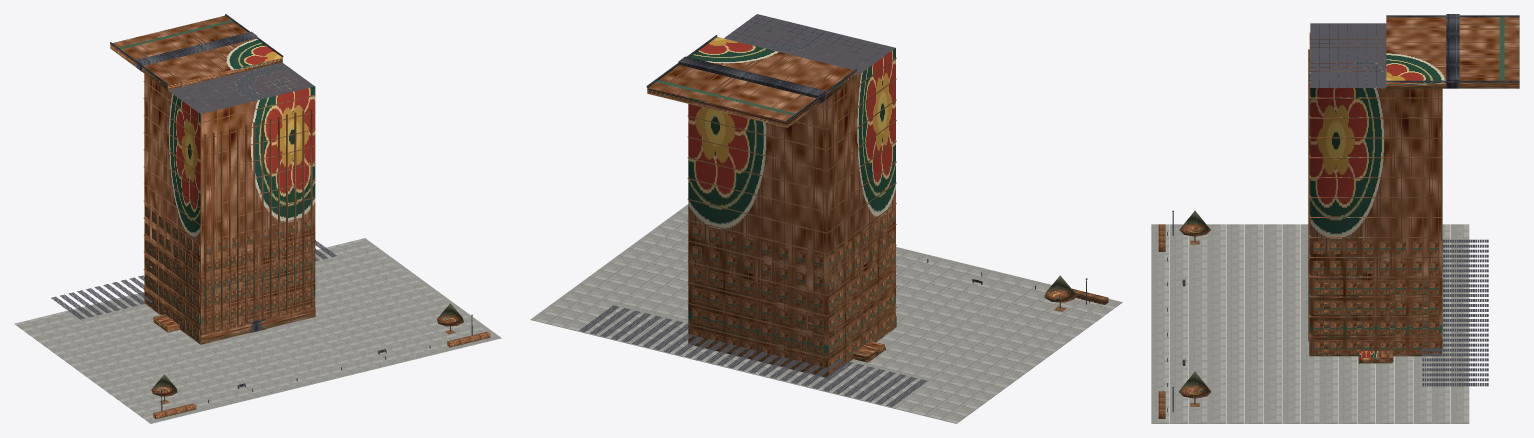
3 renders of one model, left to right at view 1: azimuth 30°, elevation 25°; view 2: azimuth 150°, elevation 25°; view 3: azimuth 270°, elevation 25°, orthographic. The views are drawn at different scales.
Visible parts, largest first — view 1: 11140_02_04520_041_02__mass_body_facade, 11140_02_04520_041_01__plinth_ground_base, 11140_02_04520_041_03__roof_deck_structure, 11140_02_04520_041_05__window_sash_glass, 11140_02_04520_041_06__landscape_greenery, 11140_02_04520_041_03__roof_metal_ornament; view 2: 11140_02_04520_041_02__mass_body_facade, 11140_02_04520_041_01__plinth_ground_base, 11140_02_04520_041_03__roof_deck_structure, 11140_02_04520_041_03__roof_metal_ornament, 11140_02_04520_041_06__landscape_greenery; view 3: 11140_02_04520_041_02__mass_body_facade, 11140_02_04520_041_01__plinth_ground_base, 11140_02_04520_041_03__roof_deck_structure, 11140_02_04520_041_03__roof_metal_ornament, 11140_02_04520_041_06__landscape_greenery.
Boxes of the visible parts, x1,y1,x2,y2 form: 11140_02_04520_041_02__mass_body_facade: (110, 15, 315, 344); 11140_02_04520_041_01__plinth_ground_base: (14, 238, 501, 423); 11140_02_04520_041_03__roof_deck_structure: (51, 62, 336, 319); 11140_02_04520_041_05__window_sash_glass: (170, 235, 313, 337); 11140_02_04520_041_06__landscape_greenery: (151, 303, 490, 419); 11140_02_04520_041_03__roof_metal_ornament: (110, 14, 283, 85); 11140_02_04520_041_02__mass_body_facade: (647, 16, 896, 377); 11140_02_04520_041_01__plinth_ground_base: (530, 204, 1122, 423); 11140_02_04520_041_03__roof_deck_structure: (579, 14, 927, 406); 11140_02_04520_041_03__roof_metal_ornament: (646, 35, 857, 121); 11140_02_04520_041_06__landscape_greenery: (1044, 275, 1108, 311); 11140_02_04520_041_02__mass_body_facade: (1308, 17, 1519, 363); 11140_02_04520_041_01__plinth_ground_base: (1151, 224, 1469, 423); 11140_02_04520_041_03__roof_deck_structure: (1310, 23, 1488, 386); 11140_02_04520_041_03__roof_metal_ornament: (1386, 14, 1519, 88); 11140_02_04520_041_06__landscape_greenery: (1158, 210, 1211, 418).
Size of the model in its own units: 85.95 by 55.8 by 67.12.
7 materials, 7 textured.
